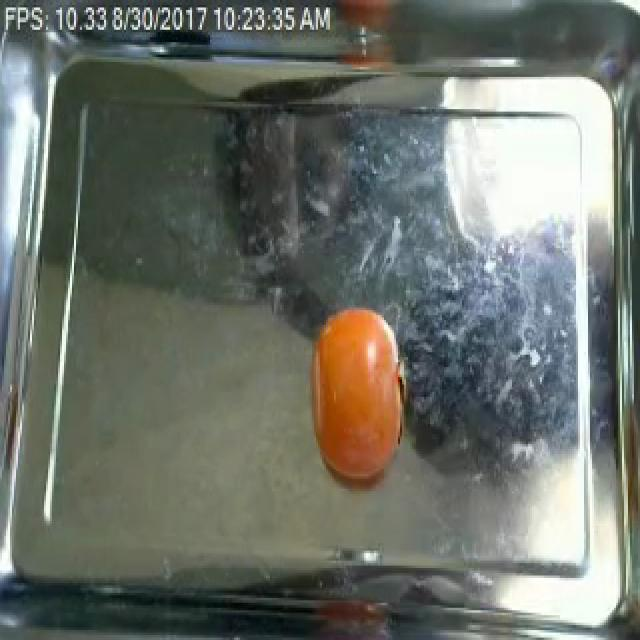Fruit: (304, 302, 414, 483), (322, 0, 406, 37)
